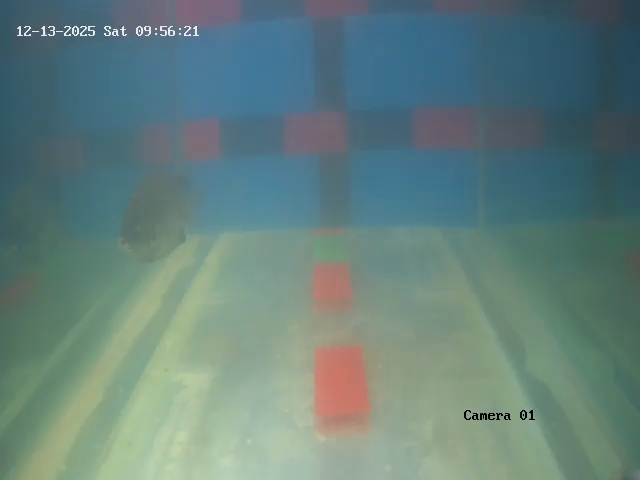fish: (96, 165, 210, 272)
